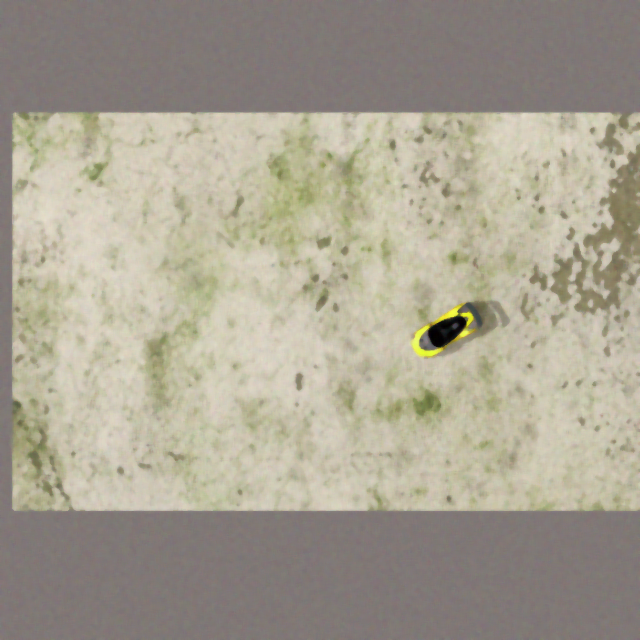car: (405, 297, 488, 365)
